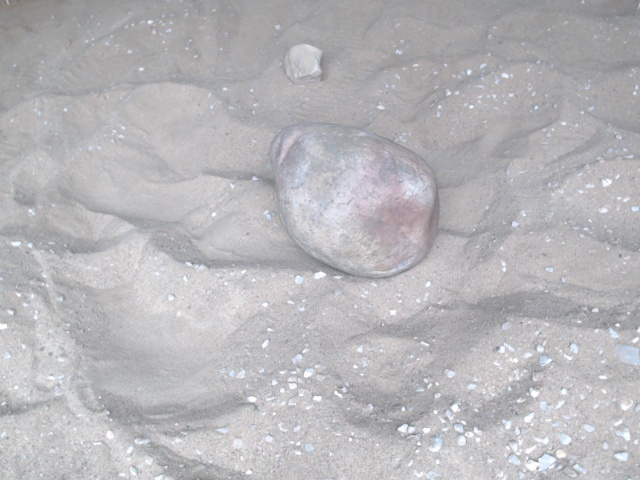rock: (263, 116, 446, 287), (278, 40, 327, 90)
